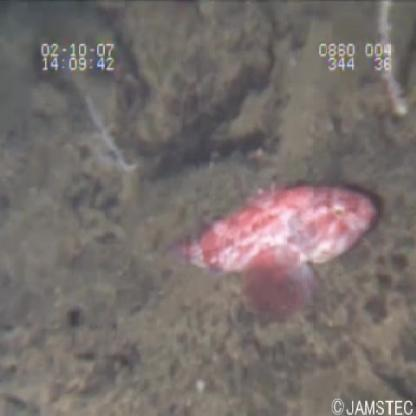Bio: (164, 167, 388, 330)
